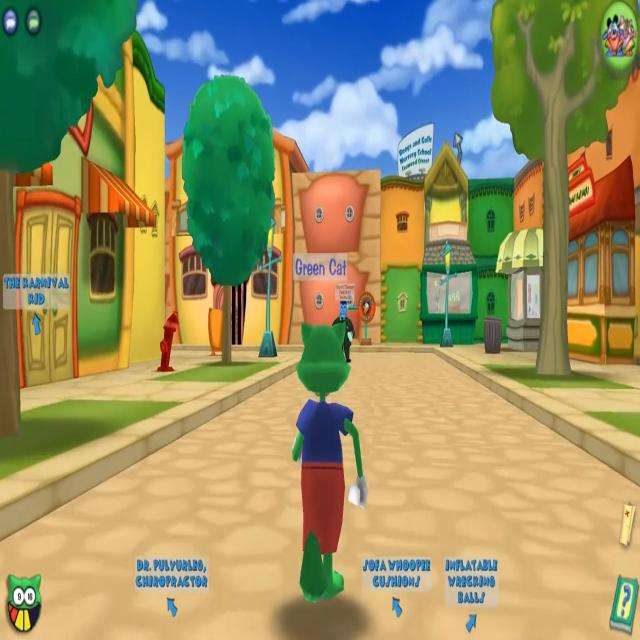shortchange: (325, 277, 361, 367)
